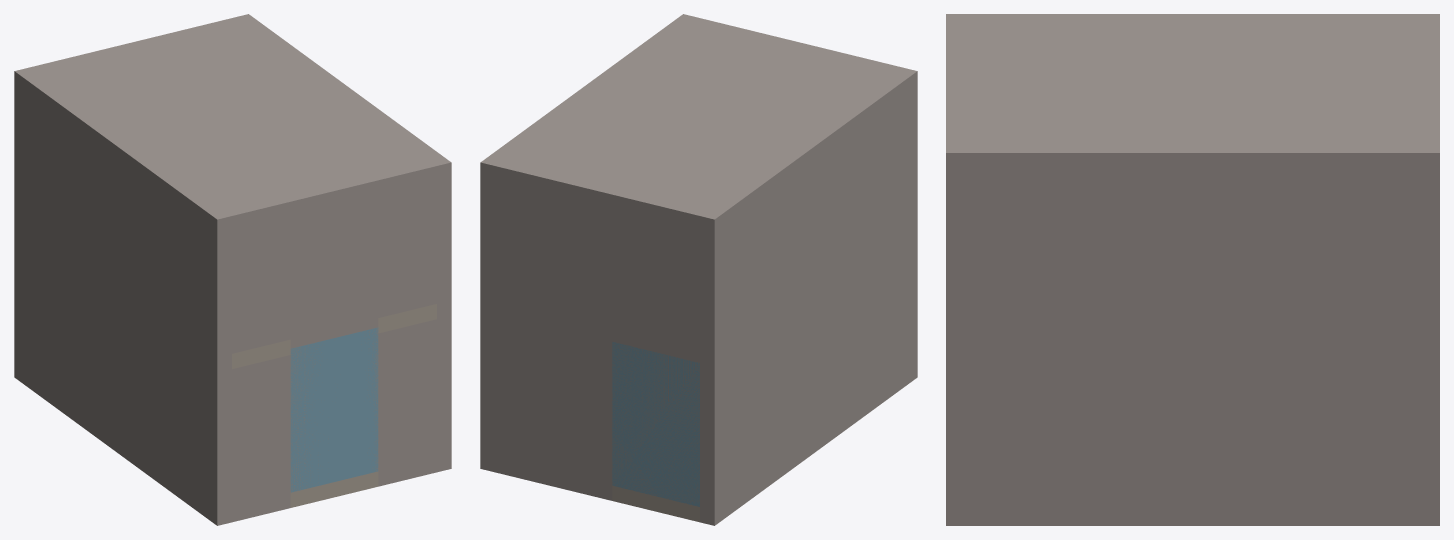
The model's file is creek-narrows-mirror.glb.
3 renders of one model, left to right at view 1: azimuth 30°, elevation 25°; view 2: azimuth 150°, elevation 25°; view 3: azimuth 270°, elevation 25°, orthographic. The views are drawn at different scales.
Visible parts, largest first — view 1: rock_18, rock_1, rock_10, plug_creek_south, rock_9, rock_7, rock_8, water_2, water_5, water_4, rock_17, rock_6 (+2 smaller); view 2: rock_18, rock_1, rock_10, rock_2, rock_11, water_1, plug_rill_north, plug_rill_north.001, cave-floor_1, rock_16; view 3: rock_18, rock_2, rock_6, rock_11, rock_15, rock_3, rock_4, rock_5, rock_13, rock_12, rock_14.
Part boxes in pixels (box(x1,y1,x2,y2)): rock_18: box(14, 14, 451, 234); rock_1: box(14, 209, 231, 525); rock_10: box(14, 86, 231, 357); plug_creek_south: box(232, 196, 436, 353); rock_9: box(378, 319, 436, 486); rock_7: box(232, 362, 261, 522); rock_8: box(261, 355, 290, 514); water_2: box(319, 334, 348, 485); water_5: box(290, 341, 319, 492); water_4: box(349, 327, 378, 478); rock_17: box(232, 181, 436, 246); rock_6: box(437, 300, 451, 472); rock_18: box(480, 14, 917, 234); rock_1: box(700, 209, 917, 525); rock_10: box(700, 86, 917, 357); rock_2: box(480, 300, 612, 500); rock_11: box(480, 178, 612, 332); water_1: box(612, 342, 699, 506); plug_rill_north: box(612, 225, 699, 353); plug_rill_north.001: box(612, 332, 699, 505); cave-floor_1: box(612, 485, 699, 522); rock_16: box(612, 210, 699, 246); rock_18: box(946, 14, 1439, 171); rock_2: box(1254, 321, 1439, 525); rock_6: box(946, 321, 1131, 525); rock_11: box(1254, 171, 1439, 320); rock_15: box(946, 171, 1131, 320); rock_3: box(1213, 321, 1254, 525); rock_4: box(1172, 321, 1213, 525); rock_5: box(1131, 321, 1172, 525); rock_13: box(1172, 171, 1213, 320); rock_12: box(1213, 171, 1254, 320); rock_14: box(1131, 171, 1172, 320).
Bounding box in the file's own units: 8 × 10 × 12.
